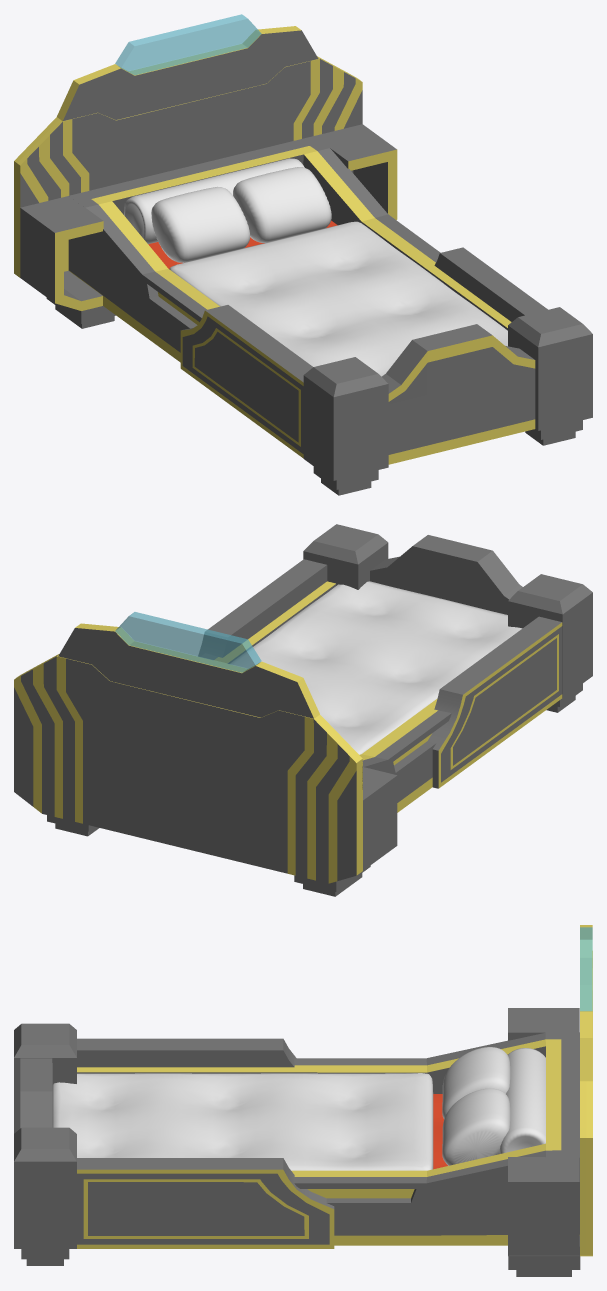
The model's file is bed_tier21.fbx.
3 renders of one model, top to bottom at view 1: azimuth 30°, elevation 25°; view 2: azimuth 150°, elevation 25°; view 3: azimuth 270°, elevation 25°, orthographic. The views are drawn at different scales.
Visible parts, largest first — view 1: Cube, Cylinder, Cube.008, Cube.010, Cylinder.001, Cube.012, Cube.002, Cube.003, Cube.007, Cube.011, Cube.009, Cube.013 (+1 smaller); view 2: Cube.008, Cylinder, Cube, Cube.012, Cube.010, Cube.002, Cube.011, Cube.013, Cube.003, Cube.007, Cube.004, Cube.005; view 3: Cylinder, Cube, Cube.013, Cube.003, Cube.009, Cylinder.001, Cube.012, Cube.002, Cube.008, Cube.010, Cube.007, Cube.005 (+2 smaller).
Boxes of the visible parts, <box> form: Cube: <box>68,136,535,464</box>; Cylinder: <box>124,158,507,376</box>; Cube.008: <box>14,56,362,277</box>; Cube.010: <box>57,26,318,121</box>; Cylinder.001: <box>151,167,331,262</box>; Cube.012: <box>180,305,312,458</box>; Cube.002: <box>303,357,388,495</box>; Cube.003: <box>508,307,592,445</box>; Cube.007: <box>20,196,103,310</box>; Cube.011: <box>115,14,261,75</box>; Cube.009: <box>315,124,397,219</box>; Cube.013: <box>434,247,547,321</box>; Cube.008: <box>14,654,362,883</box>; Cylinder: <box>230,581,522,754</box>; Cube: <box>201,535,522,812</box>; Cube.012: <box>428,616,562,788</box>; Cube.010: <box>58,623,319,718</box>; Cube.002: <box>508,574,592,712</box>; Cube.011: <box>115,612,261,672</box>; Cube.013: <box>198,559,327,657</box>; Cube.003: <box>303,524,388,589</box>; Cube.007: <box>363,767,397,870</box>; Cube.004: <box>294,865,370,896</box>; Cube.005: <box>47,815,98,836</box>; Cylinder: <box>52,1048,545,1170</box>; Cube: <box>20,1032,579,1245</box>; Cube.013: <box>77,1158,334,1248</box>; Cube.003: <box>14,1127,76,1265</box>; Cube.009: <box>508,1157,579,1256</box>; Cylinder.001: <box>442,1047,510,1165</box>; Cube.012: <box>77,1038,296,1067</box>; Cube.002: <box>14,1023,76,1133</box>; Cube.008: <box>580,951,592,1256</box>; Cube.010: <box>580,925,592,1080</box>; Cube.007: <box>508,1008,579,1040</box>; Cube.005: <box>508,1236,580,1276</box>.
Bounding box in the file's own units: 263 × 176 × 369.
